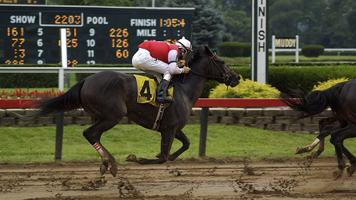person: (131, 37, 194, 104)
